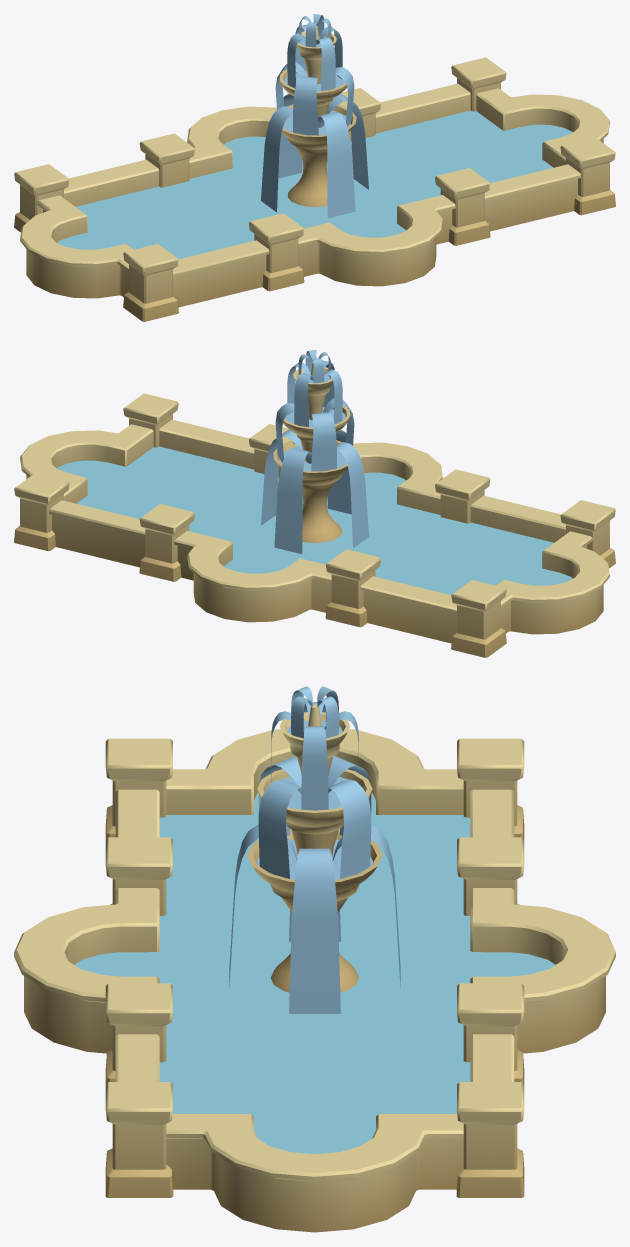
Rendered from Pool-Optimize.fbx.
3 views of the same model, one above another, from view 1: azimuth 30°, elevation 25°; view 2: azimuth 150°, elevation 25°; view 3: azimuth 270°, elevation 25° (orthographic). The views are drawn at different scales.
Visible parts, largest first — view 1: Pool, Water, WaterFall_01, Fountain, WaterFall_02, WaterFall_03, WaterFall_04; view 2: Pool, Water, WaterFall_01, Fountain, WaterFall_02, WaterFall_03, WaterFall_04; view 3: Pool, Water, WaterFall_01, Fountain, WaterFall_02, WaterFall_03, WaterFall_04.
Boxes of the visible parts, x1=… form: Pool: x1=14, y1=57, x2=615, y2=321; Water: x1=57, y1=110, x2=572, y2=258; WaterFall_01: x1=261, y1=93, x2=368, y2=218; Fountain: x1=279, y1=26, x2=356, y2=206; WaterFall_02: x1=275, y1=62, x2=354, y2=135; WaterFall_03: x1=287, y1=24, x2=342, y2=91; WaterFall_04: x1=298, y1=14, x2=331, y2=47; Pool: x1=14, y1=393, x2=615, y2=657; Water: x1=57, y1=446, x2=572, y2=594; WaterFall_01: x1=261, y1=429, x2=368, y2=554; Fountain: x1=273, y1=362, x2=350, y2=542; WaterFall_02: x1=275, y1=398, x2=354, y2=471; WaterFall_03: x1=287, y1=360, x2=342, y2=427; WaterFall_04: x1=298, y1=350, x2=331, y2=383; Pool: x1=14, y1=729, x2=615, y2=1232; Water: x1=74, y1=792, x2=555, y2=1153; WaterFall_01: x1=229, y1=824, x2=400, y2=1013; Fountain: x1=247, y1=704, x2=382, y2=992; WaterFall_02: x1=258, y1=756, x2=371, y2=878; WaterFall_03: x1=271, y1=702, x2=358, y2=810; WaterFall_04: x1=291, y1=686, x2=338, y2=738.
Size of the model in its own units: 1412 by 467 by 800.
